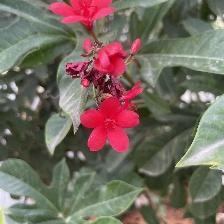jatropha: (82, 95, 143, 157)
